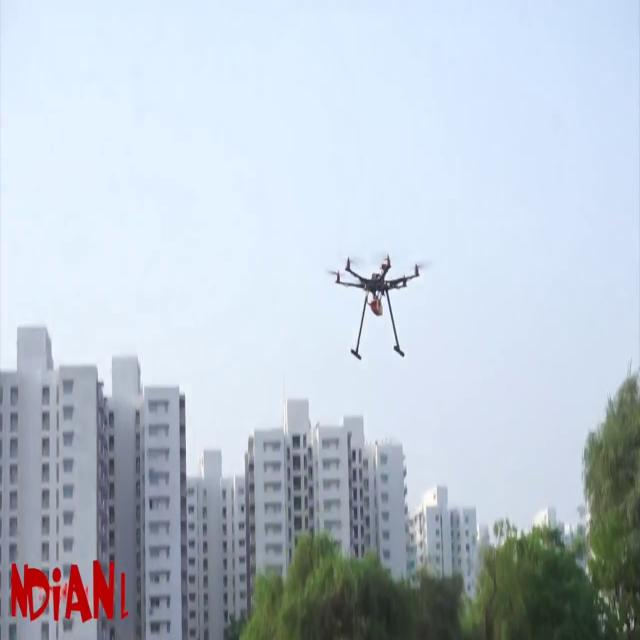drone: (324, 247, 432, 370)
